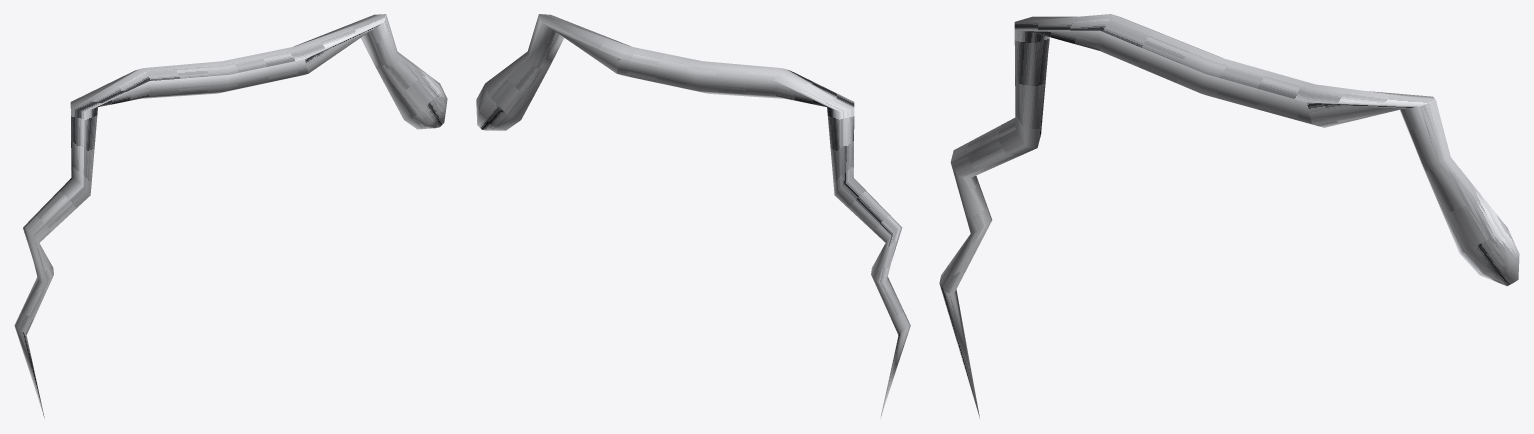
The model's file is snake_000045.obj.
3 views of the same model, side by side, from view 1: azimuth 30°, elevation 25°; view 2: azimuth 150°, elevation 25°; view 3: azimuth 330°, elevation 25° (orthographic). The views are drawn at different scales.
Parts seen in each view (by area): view 1: Cylinder; view 2: Cylinder; view 3: Cylinder.
Part boxes in pixels (box(x1,y1,x2,y2)): Cylinder: box(14, 14, 447, 417); Cylinder: box(476, 14, 910, 417); Cylinder: box(939, 14, 1519, 417).
Size of the model in its own units: 6.04 by 4.38 by 0.3671.
